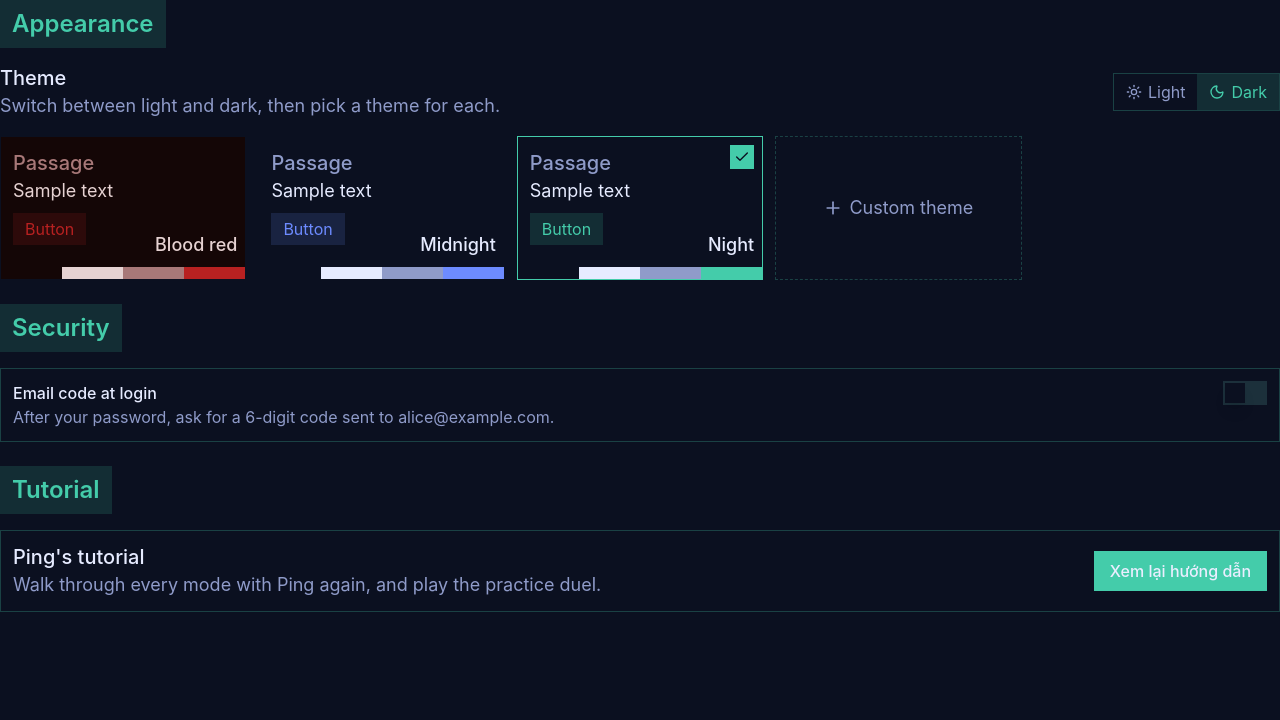
Test: SettingsPage › shows the light themes and the Sand fallback after the Light tab, and keeps the theme of each mode
This screenshot has width=1280, height=720.
Expected: the heading "Appearance" is shown, [0,0,166,48]
What coordinates should you click on to do the following:
click the radio button labelled "Light"
I would click on:
 (1156, 92)
Its box is [1114,74,1197,110].
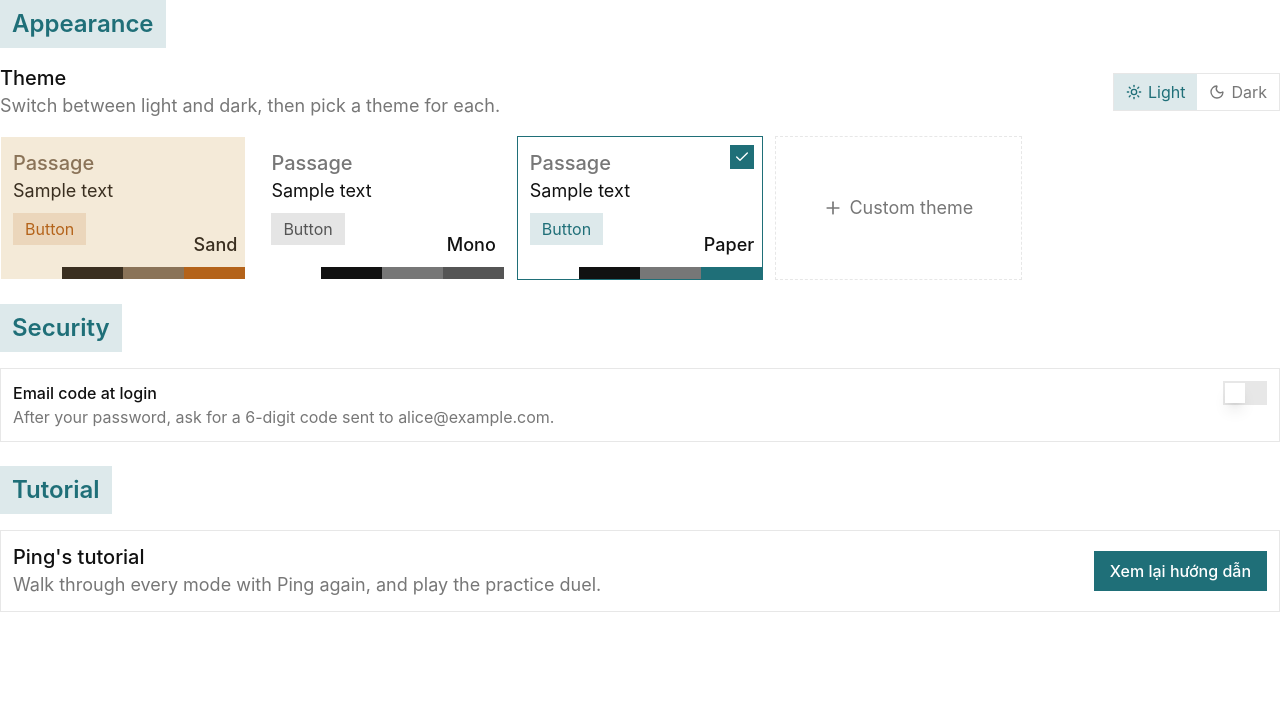
Result: the button "Passage Sample text Button Sand" is shown at [0,136,246,280]
Result: the button "Passage Sample text Button Mono" is shown at [258,136,505,280]
Result: the button "Midnight" is gone
